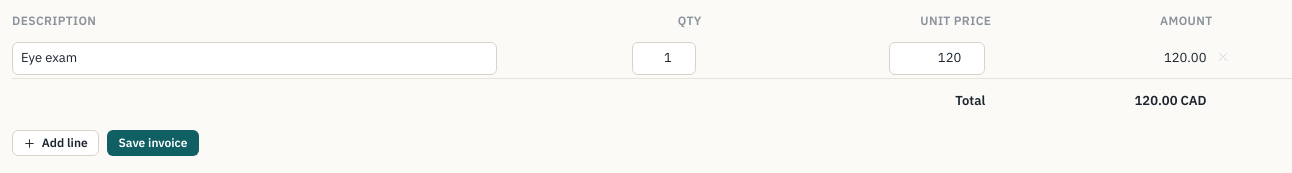
Test: InvoiceEditor › recalculates the total as figures change
Clear the number field named "Line 1 quantity" at (664, 58), box [632,42,696,75]
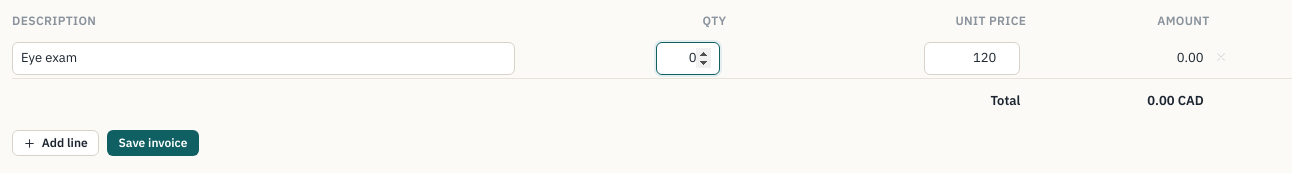
Type "3" into the number field named "Line 1 quantity" at (688, 58), box [656,42,720,75]
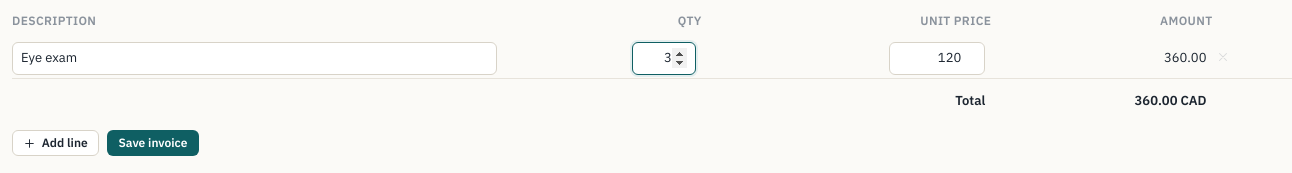
Now the text "360.00 CAD" is shown, box [1134,92,1206,109]
